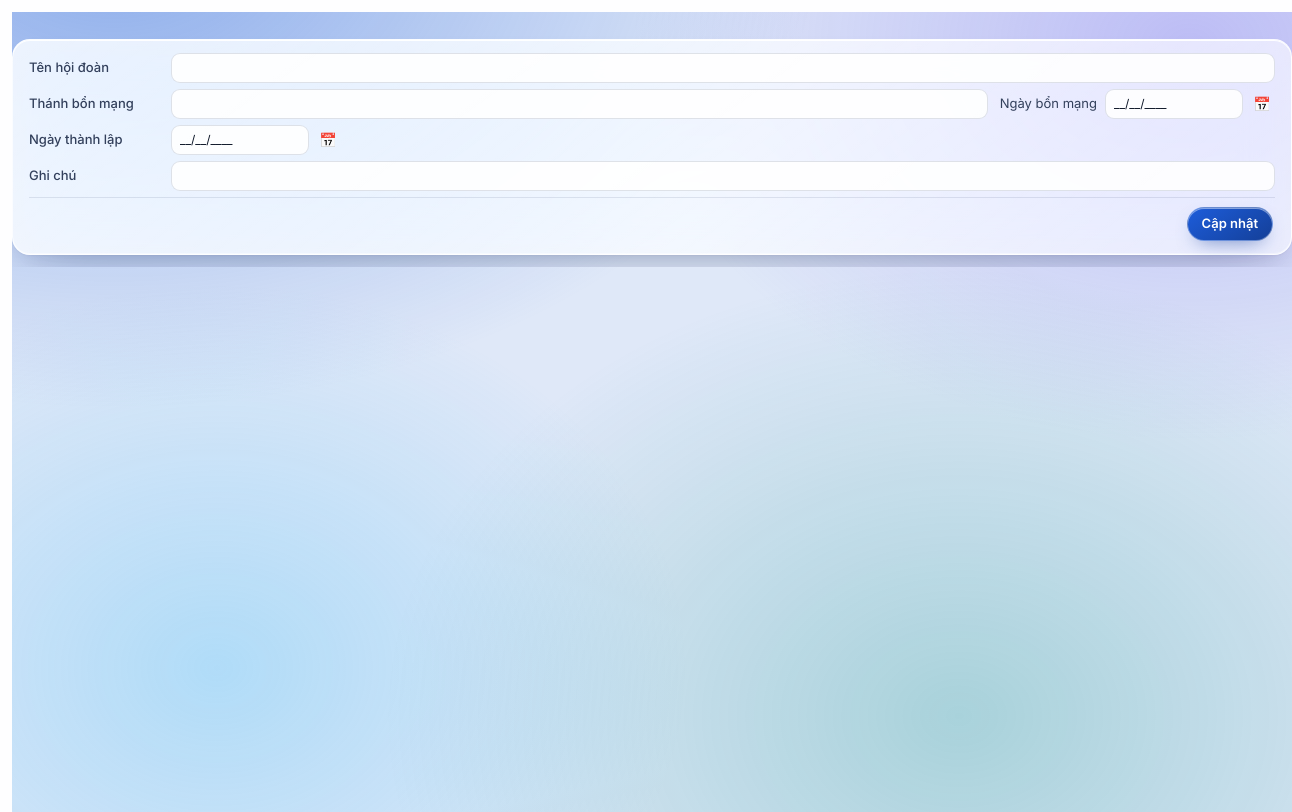
Test: HoiDoanDetail › thieu ten hoi doan thi bao loi tieng Viet, khong goi API luu
The image size is (1292, 812).
Click the button "Cập nhật".
click(1230, 224)  # box [1187, 207, 1273, 241]
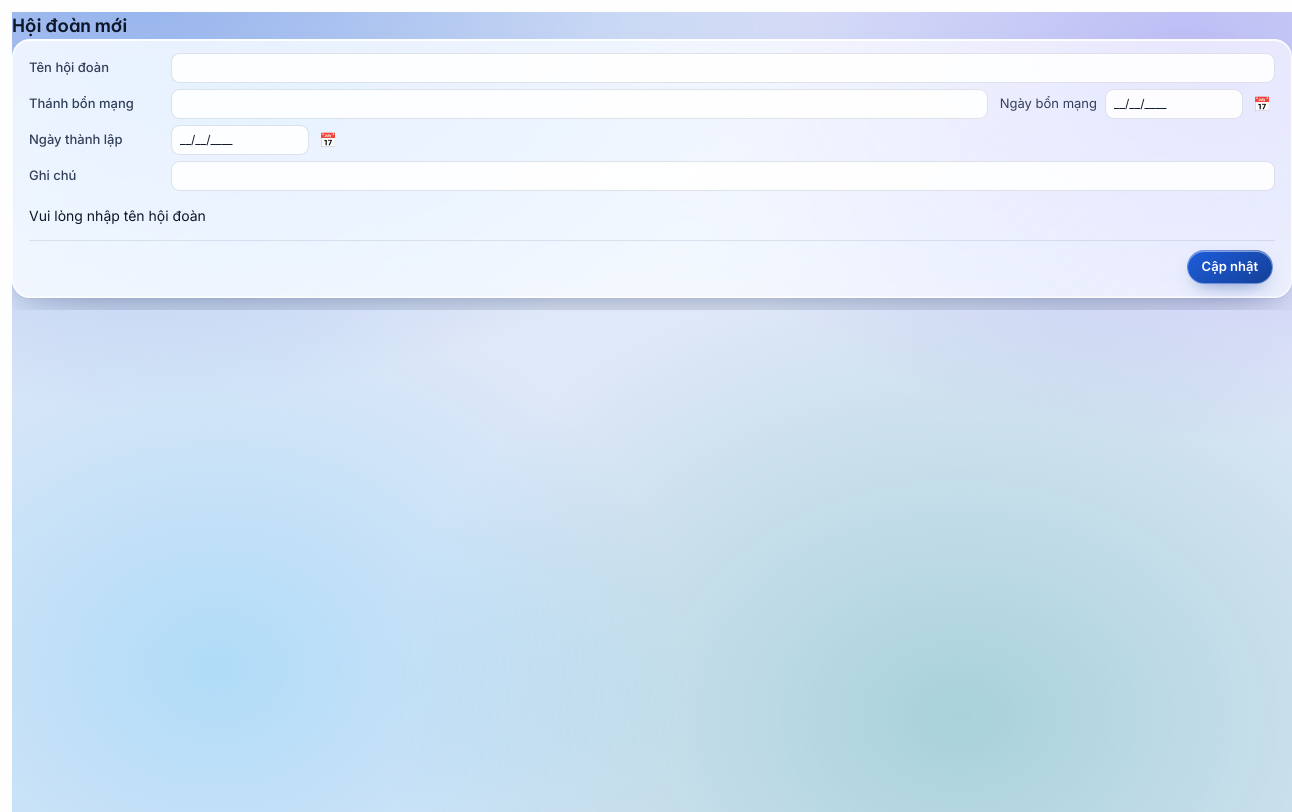
Expected: the text "Vui lòng nhập tên hội đoàn" is shown, [29, 207, 206, 224]
